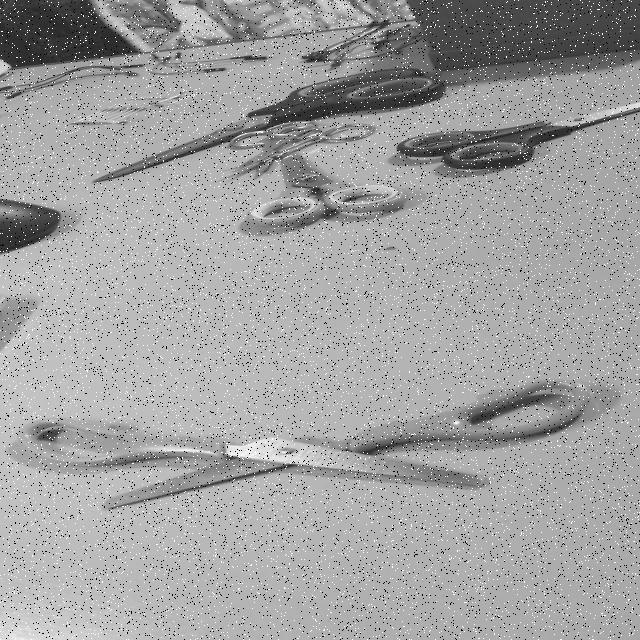scissors: (12, 374, 599, 514)
